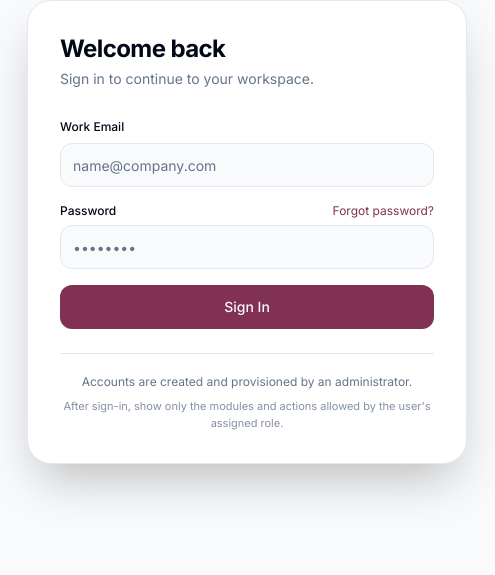
Scenario: LoginForm › should show error message on failed login
This screenshot has width=495, height=575.
In the field labelled "Work Email": (247, 165) [60, 143, 434, 187], type "test@test.com"
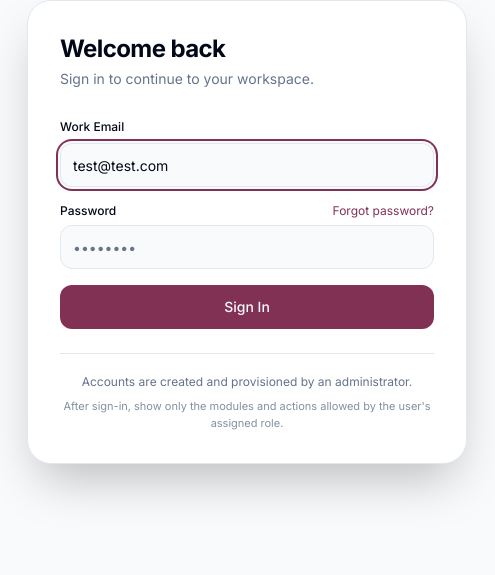
In the password field labelled "Password": (247, 247) [60, 225, 434, 269], type "wrongpass"
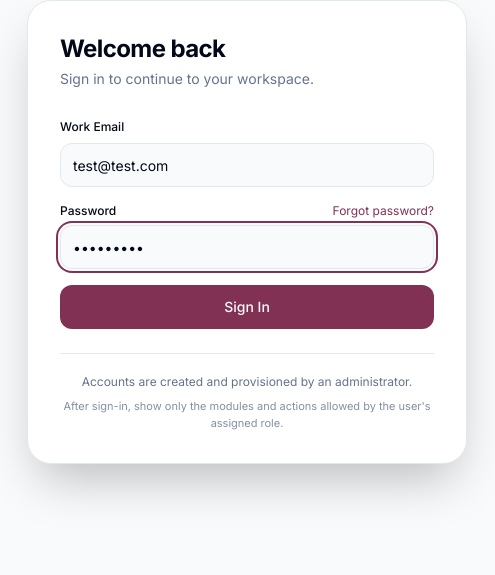
Click the button "Sign In": (247, 307) [60, 285, 434, 329]
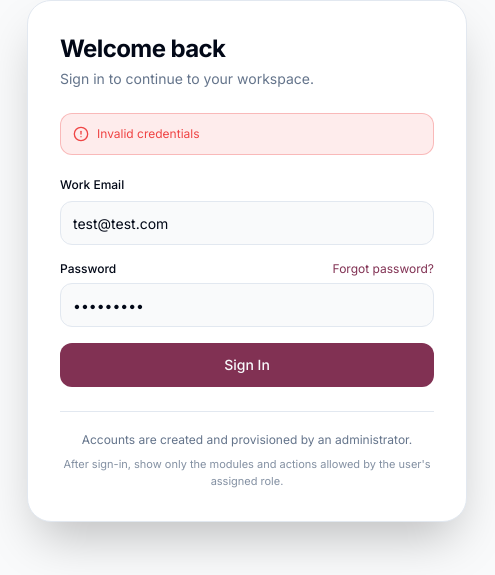
Expected: the message reads "Invalid credentials", [97, 126, 200, 141]
